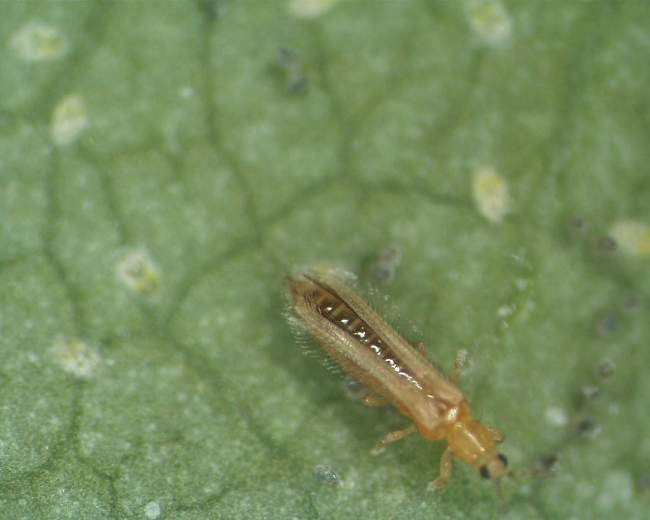Thrips: (263, 246, 545, 505)
